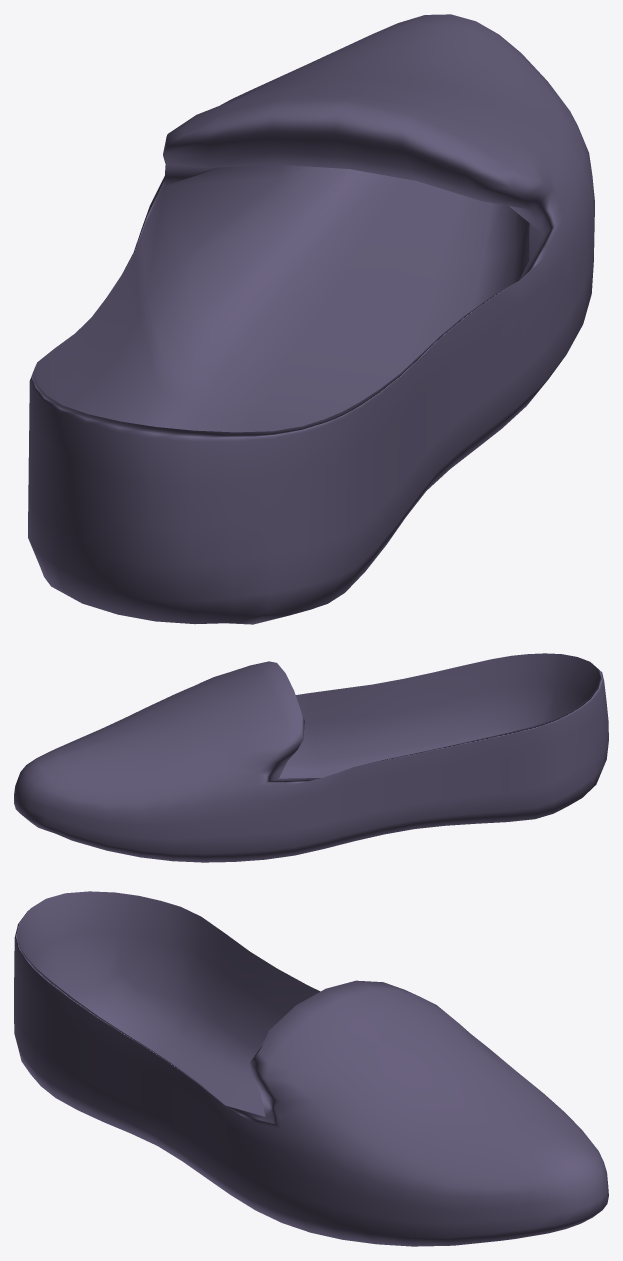
Rendered from loft2.fbx.
The picture shows the model from 3 angles, top to bottom: view 1: azimuth 30°, elevation 25°; view 2: azimuth 150°, elevation 25°; view 3: azimuth 270°, elevation 25°; orthographic projection. The views are drawn at different scales.
Visible parts, largest first — view 1: Flat1; view 2: Flat1; view 3: Flat1.
Part boxes in pixels (left/top/right/bottom): Flat1: left=28, top=14, right=594, bottom=624; Flat1: left=14, top=653, right=608, bottom=862; Flat1: left=14, top=891, right=608, bottom=1246.
Size of the model in its own units: 3.18 by 1.11 by 3.22.
